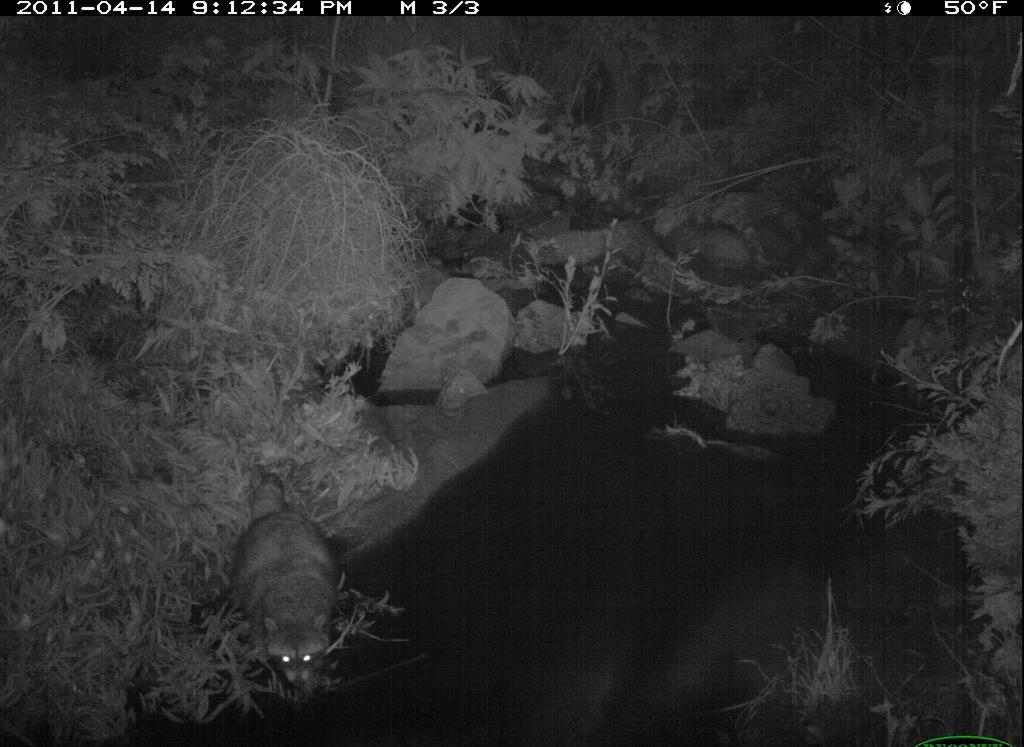raccoon: (219, 459, 359, 725)
